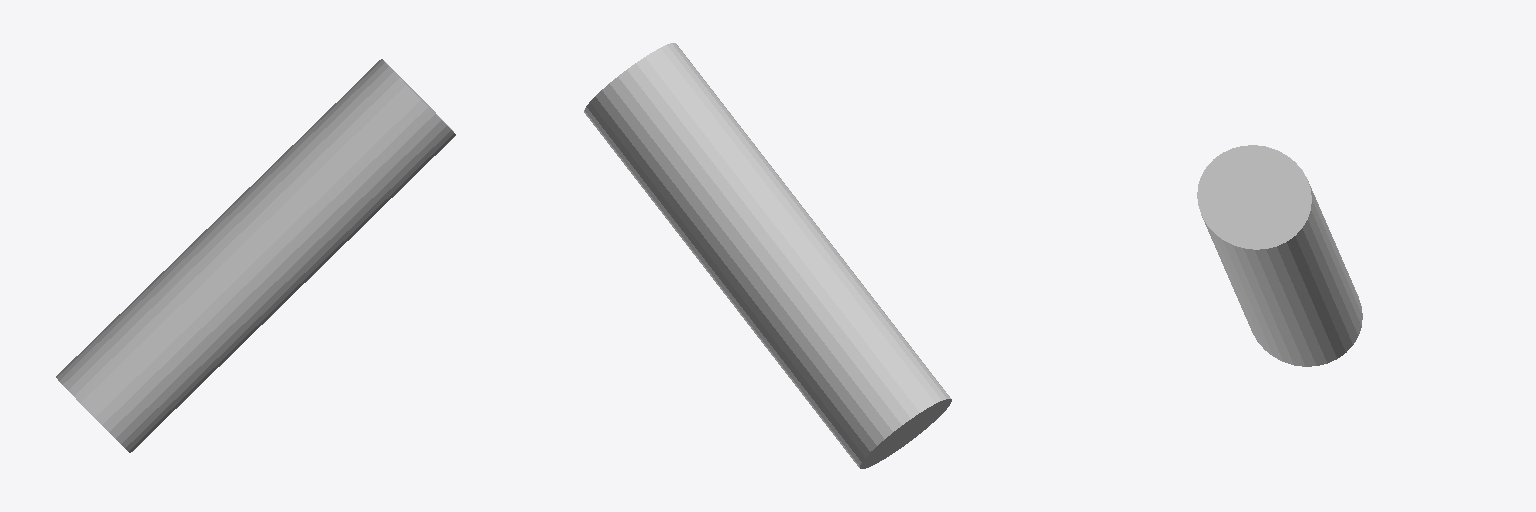
The model's file is mesh_upperleg_l2.obj.
The picture shows the model from 3 angles: view 1: azimuth 30°, elevation 25°; view 2: azimuth 150°, elevation 25°; view 3: azimuth 270°, elevation 25°; orthographic projection.
Parts seen in each view (by area): view 1: Cylinder.011_Cylinder.021; view 2: Cylinder.011_Cylinder.021; view 3: Cylinder.011_Cylinder.021.
Part boxes in pixels (left/top/right/bottom): Cylinder.011_Cylinder.021: left=56, top=59, right=455, bottom=452; Cylinder.011_Cylinder.021: left=584, top=43, right=951, bottom=468; Cylinder.011_Cylinder.021: left=1197, top=145, right=1362, bottom=366.
Size of the model in its own units: 0.7846 by 0.7015 by 0.3107.